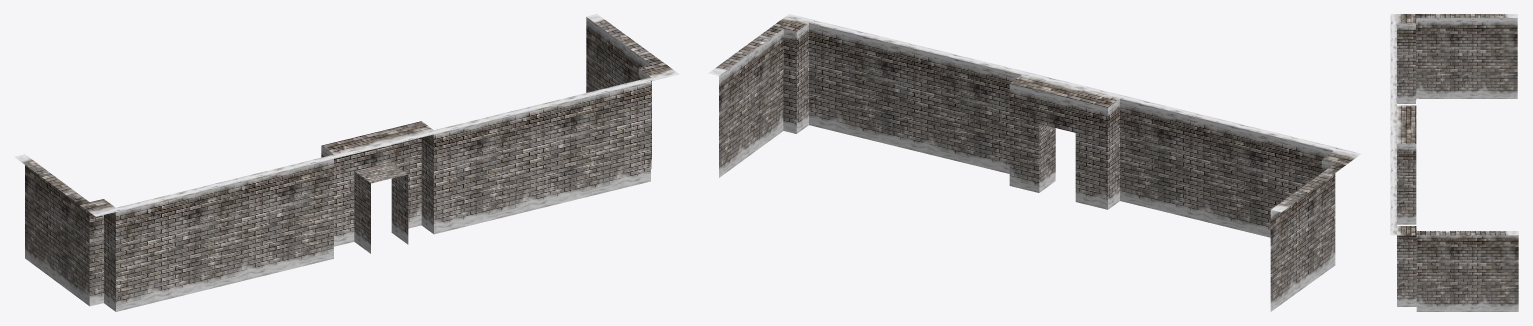
The model's file is qiang02.obj.
3 views of the same model, side by side, from view 1: azimuth 30°, elevation 25°; view 2: azimuth 150°, elevation 25°; view 3: azimuth 270°, elevation 25° (orthographic). The views are drawn at different scales.
Parts seen in each view (by area): view 1: qiang02; view 2: qiang02; view 3: qiang02.
Boxes of the visible parts, left/top/right/bottom form: qiang02: left=14, top=14, right=679, bottom=311; qiang02: left=708, top=14, right=1361, bottom=311; qiang02: left=1390, top=14, right=1518, bottom=311.
Bounding box in the file's own units: 2346 × 400 × 575.
